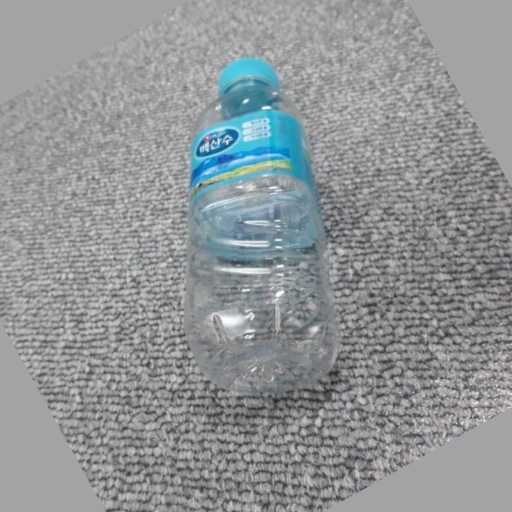Plastic_0: (186, 54, 339, 395)
